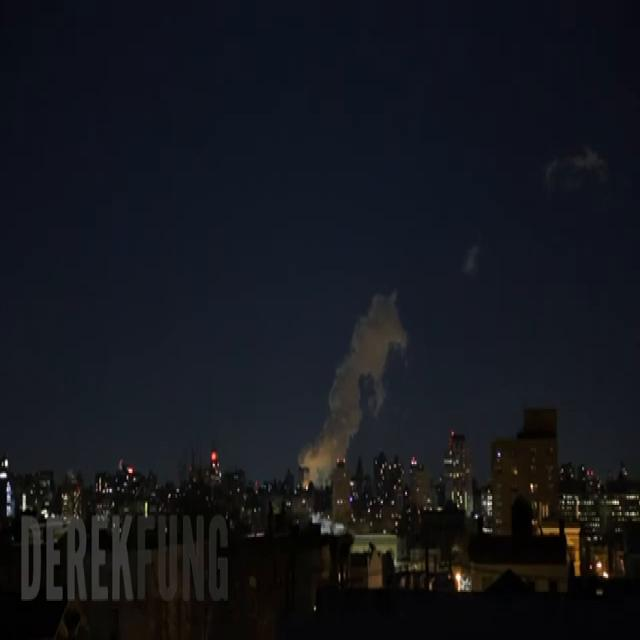smoke: (298, 293, 398, 478)
